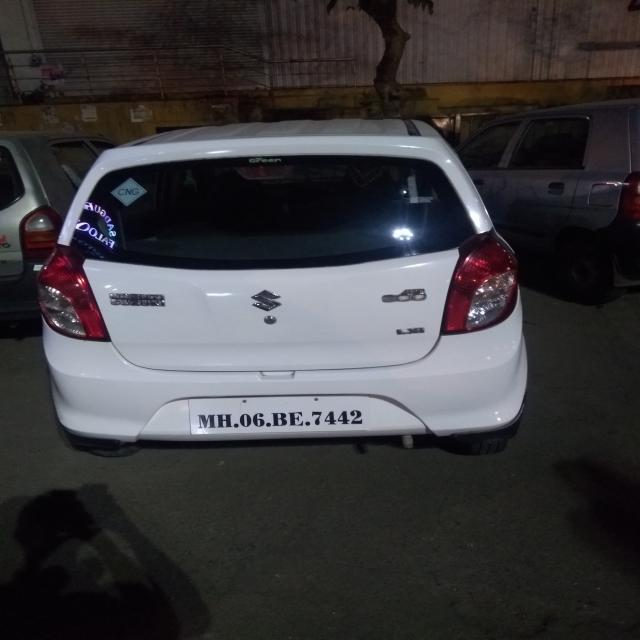Number-Plate: (192, 399, 386, 433)
